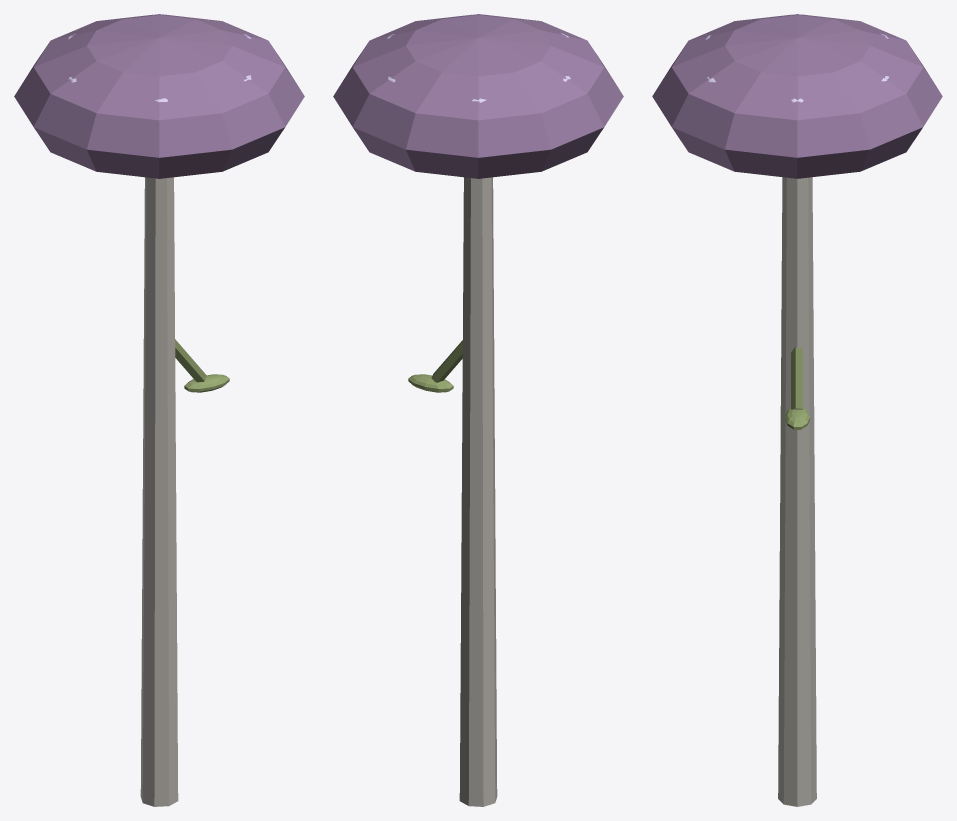
The model's file is MushroomStreetlamp.fbx.
3 views of the same model, side by side, from view 1: azimuth 30°, elevation 25°; view 2: azimuth 150°, elevation 25°; view 3: azimuth 270°, elevation 25° (orthographic).
Visible parts, largest first — view 1: Prop_MushroomStreetlamp; view 2: Prop_MushroomStreetlamp; view 3: Prop_MushroomStreetlamp.
Part boxes in pixels (box(x1,y1,x2,y2)): Prop_MushroomStreetlamp: box(14, 14, 304, 806); Prop_MushroomStreetlamp: box(333, 14, 623, 806); Prop_MushroomStreetlamp: box(652, 14, 942, 806).
Bounding box in the file's own units: 0.9 × 2.6 × 0.9.
